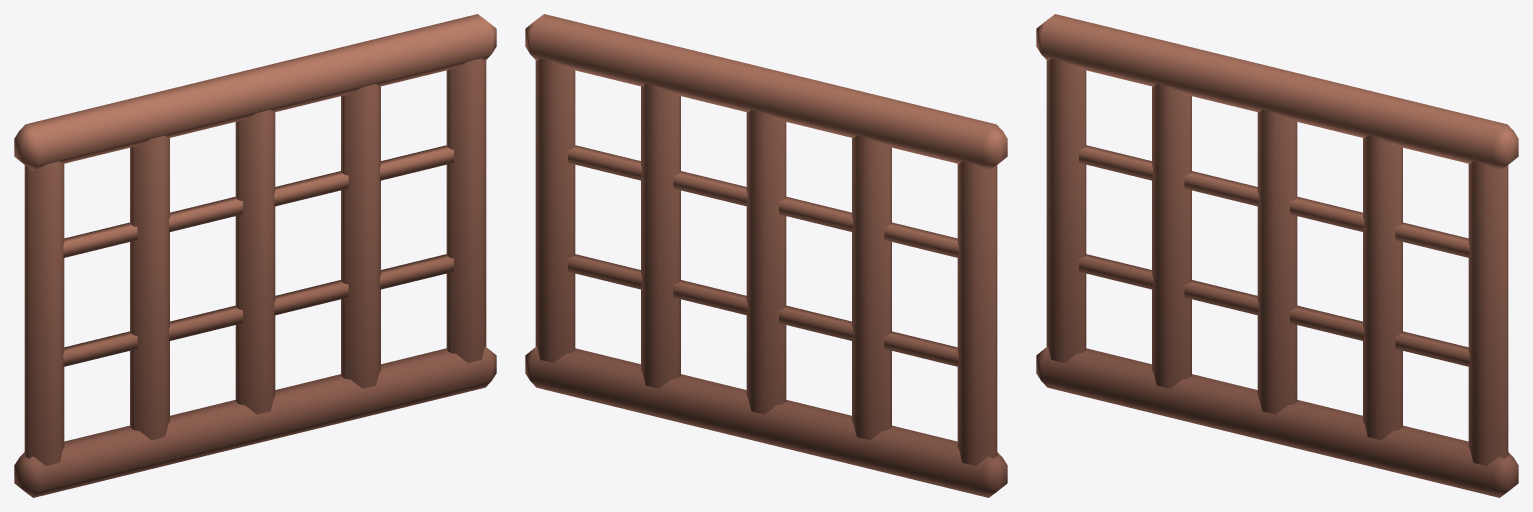
File: SM_Wood_Window_01.fbx
3 views of the same model, side by side, from view 1: azimuth 30°, elevation 25°; view 2: azimuth 150°, elevation 25°; view 3: azimuth 330°, elevation 25° (orthographic).
Visible parts, largest first — view 1: SM_Wood_Window_01; view 2: SM_Wood_Window_01; view 3: SM_Wood_Window_01.
Part boxes in pixels (x1,y1,x2,y2): SM_Wood_Window_01: (14,14,496,497); SM_Wood_Window_01: (525,14,1007,497); SM_Wood_Window_01: (1036,14,1518,497).
Bounding box in the file's own units: 0.6192 × 0.4589 × 0.0466.
